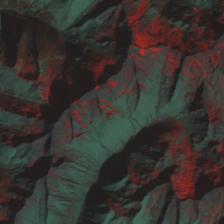landslides: (128, 167, 173, 203), (61, 165, 87, 201), (89, 119, 112, 157), (150, 187, 173, 224), (146, 184, 169, 210), (49, 202, 78, 222), (95, 107, 113, 125), (166, 199, 178, 224), (185, 200, 196, 224), (48, 177, 64, 191), (21, 209, 35, 223)
